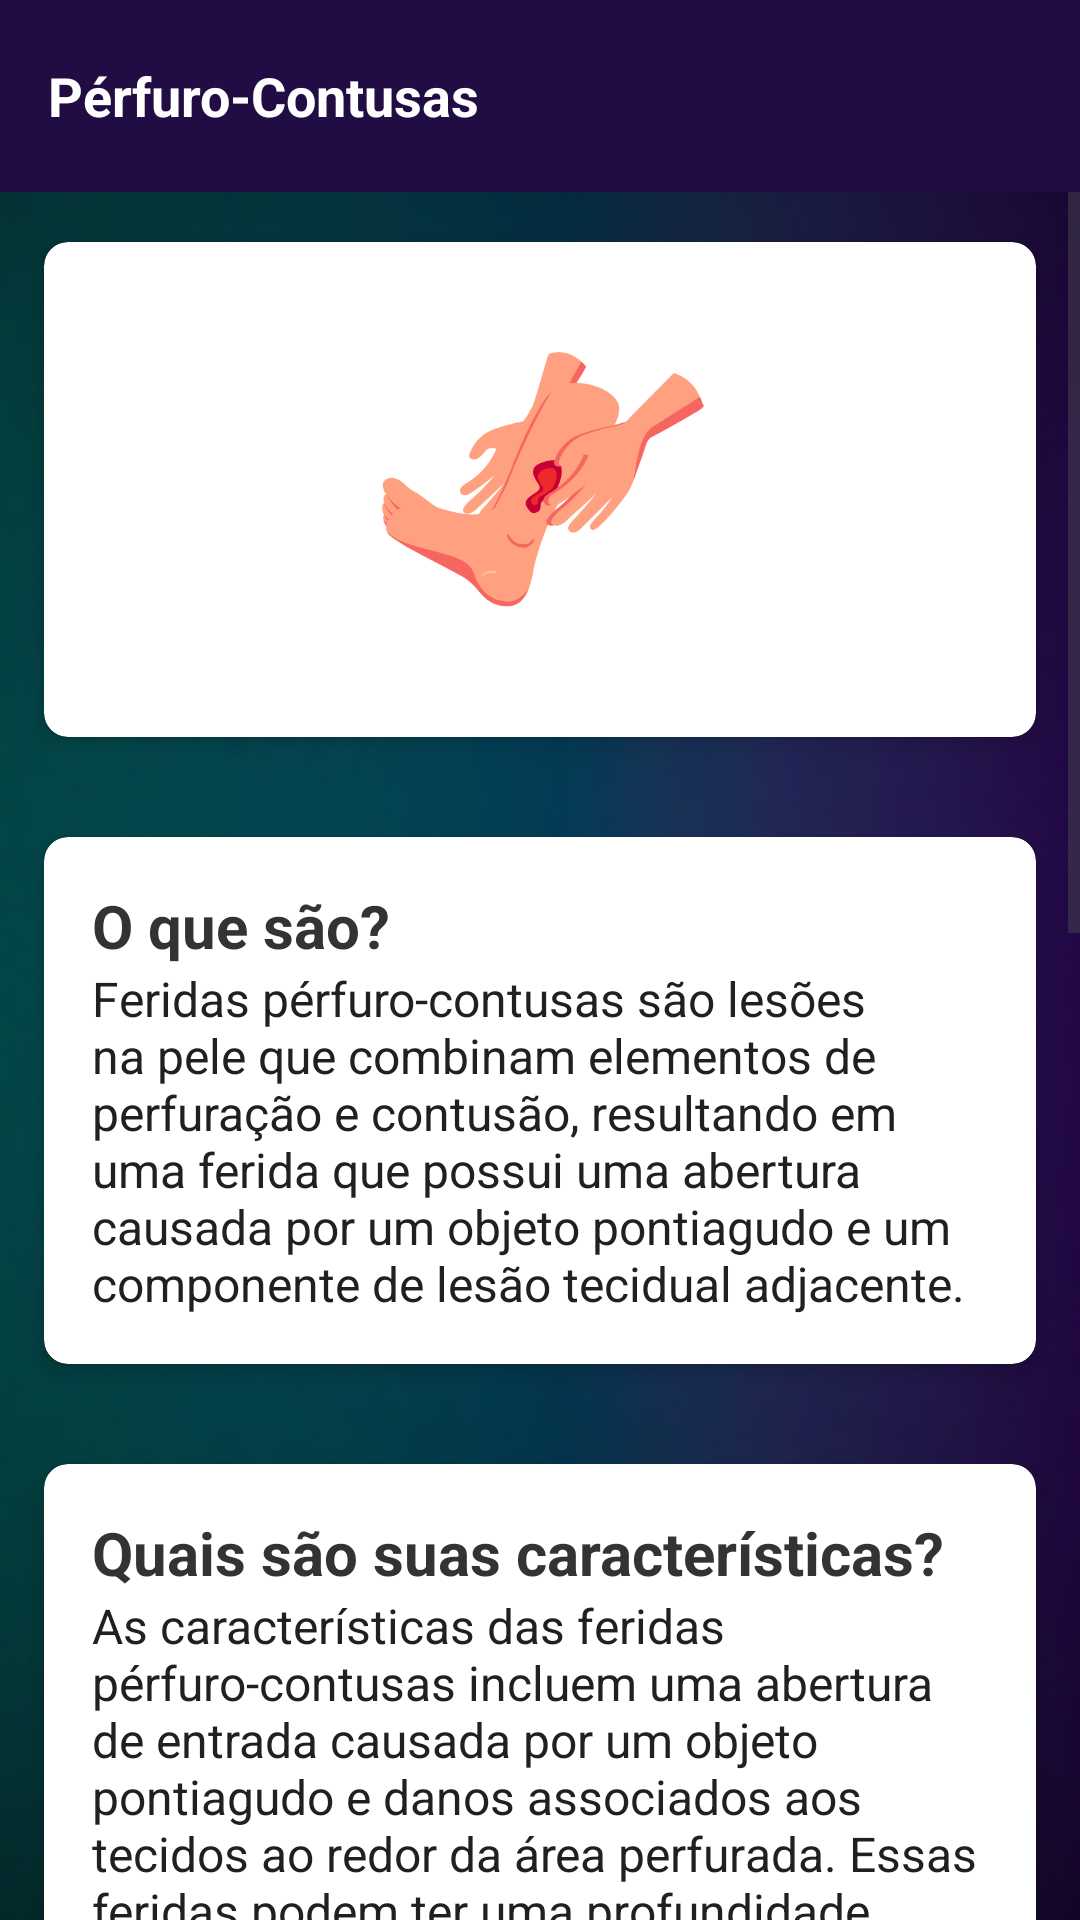

Named icons in this screenshot (1080px x 1920px) and their centers, point (x, y):
rfurocontusa: point (543, 479)
